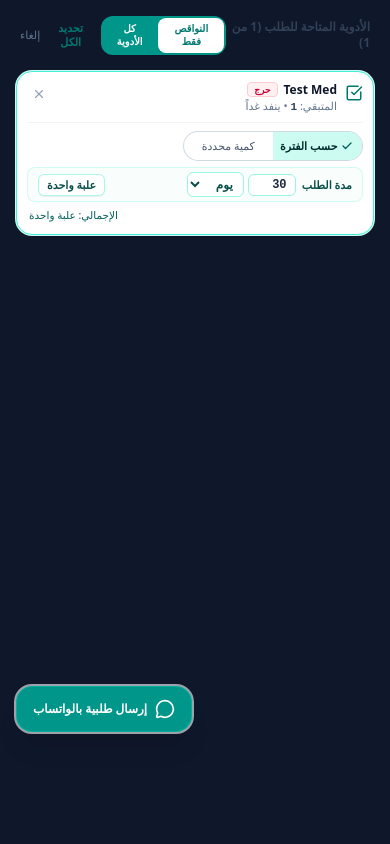
Test: PharmacyShoppingView — refill actions › keeps the period quantity unchanged when switching display units
Check: the text "الإجمالي: علبة واحدة" is shown, box [29, 208, 118, 222]
What coordinates should you click on to do the following:
click the radio button labelled "كمية محددة"
I would click on:
 (228, 146)
Its box is [184, 132, 272, 160].
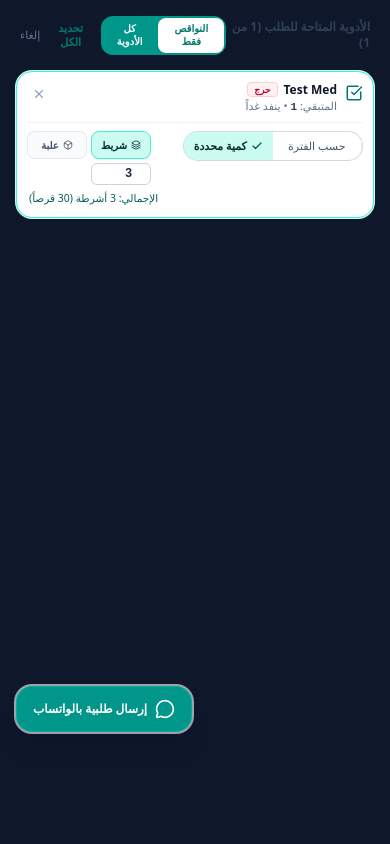
Check: the number field named "كمية Test Med شريط" holds "3", box [91, 163, 151, 185]
What coordinates should you click on to do the following:
click the button "علبة"
I would click on:
 (57, 145)
Its box is [27, 131, 87, 159].
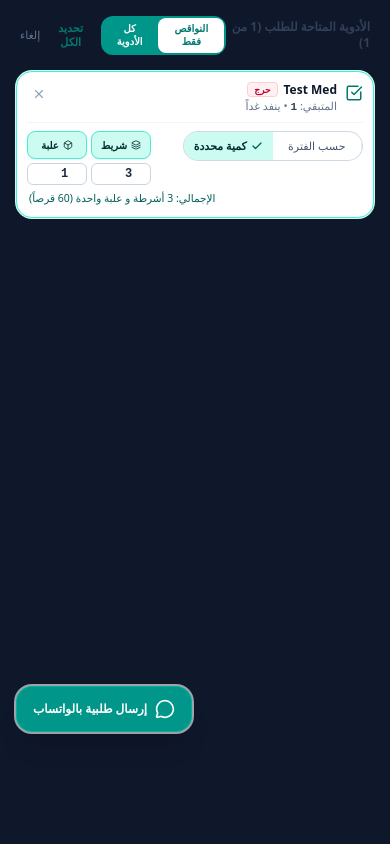
Check: the number field named "كمية Test Med علبة" holds "1", box [27, 163, 87, 185]
